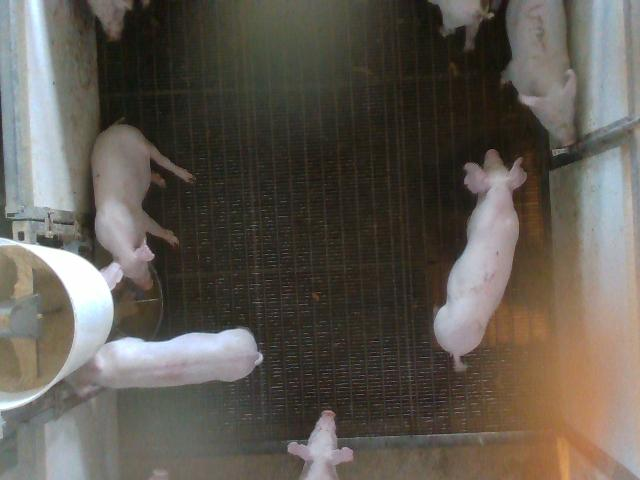pig-4: (65, 329, 262, 397)
pig-5: (502, 0, 578, 147)
